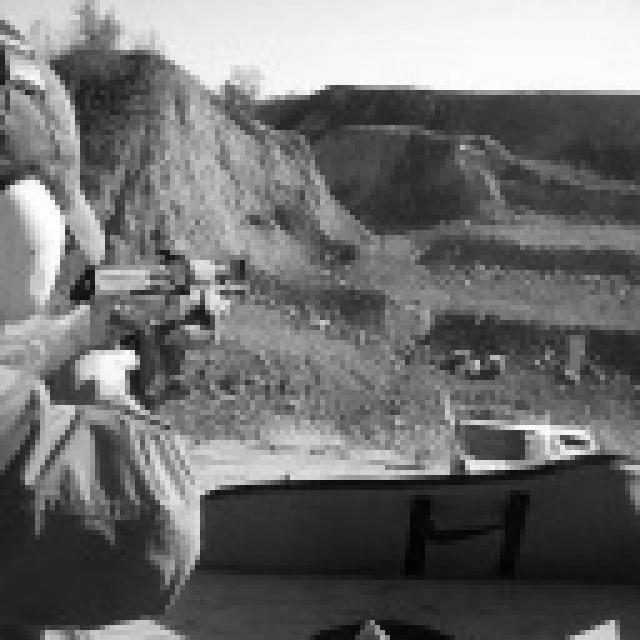Rifle: (0, 208, 260, 504)
